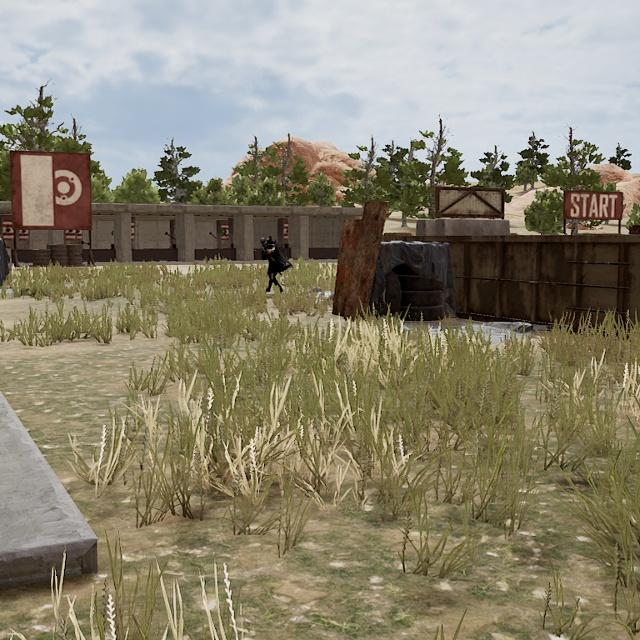head: (259, 236, 269, 248)
people: (258, 236, 288, 294)
